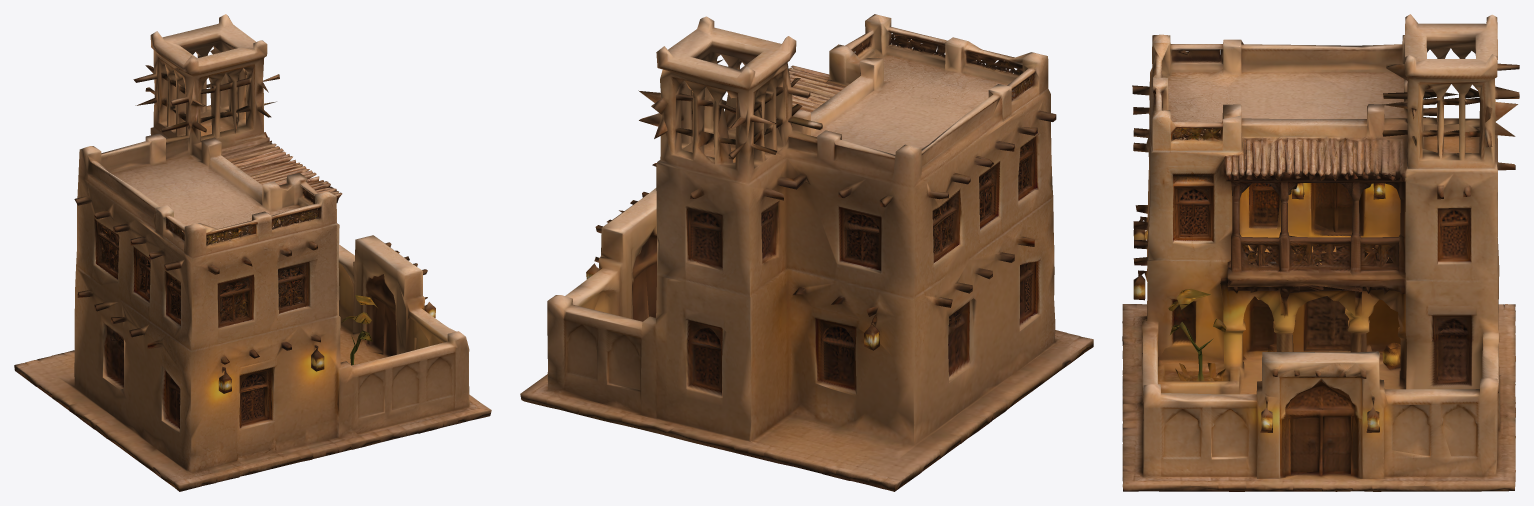
File: villa_windtower.glb
3 renders of one model, left to right at view 1: azimuth 30°, elevation 25°; view 2: azimuth 150°, elevation 25°; view 3: azimuth 270°, elevation 25°, orthographic. The views are drawn at different scales.
Visible parts, largest first — view 1: tripo_node_72ad5e55-1023-4b0e-8bcb-2ba0a4719c54; view 2: tripo_node_72ad5e55-1023-4b0e-8bcb-2ba0a4719c54; view 3: tripo_node_72ad5e55-1023-4b0e-8bcb-2ba0a4719c54.
Part boxes in pixels (box(x1,y1,x2,y2)): tripo_node_72ad5e55-1023-4b0e-8bcb-2ba0a4719c54: box(14, 14, 491, 491); tripo_node_72ad5e55-1023-4b0e-8bcb-2ba0a4719c54: box(520, 14, 1093, 491); tripo_node_72ad5e55-1023-4b0e-8bcb-2ba0a4719c54: box(1122, 14, 1519, 491).
Bounding box in the file's own units: 1 × 0.9545 × 0.9175.
Materials: 1 (1 with a texture image).
